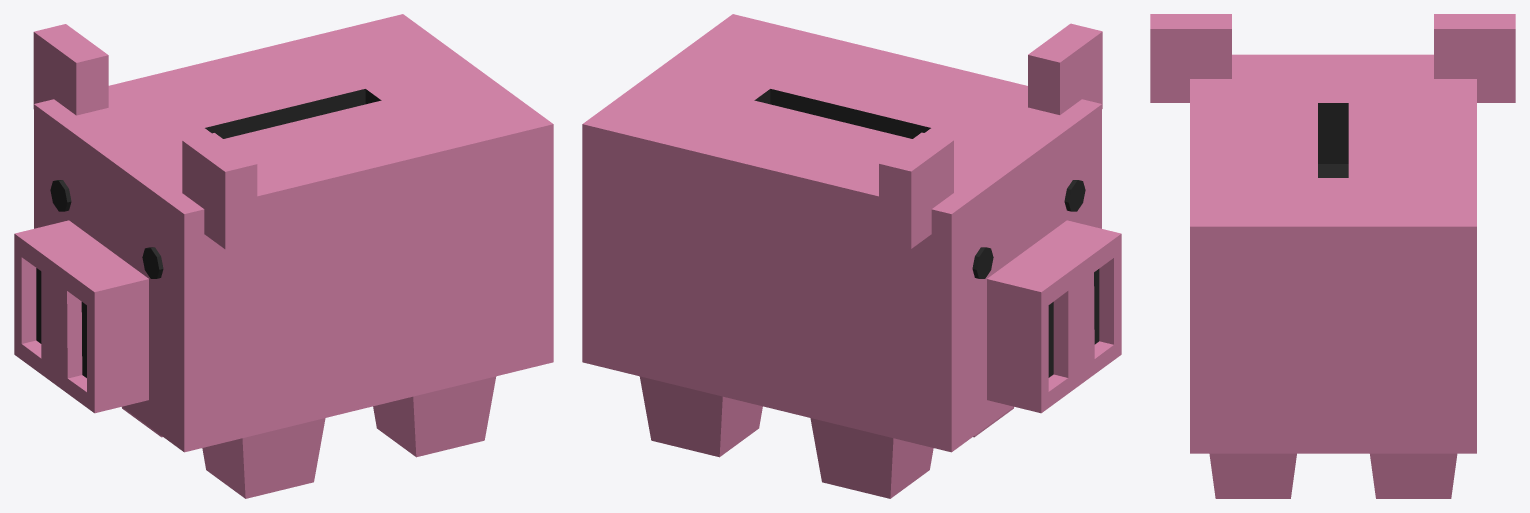
The model's file is pig_coin.fbx.
3 views of the same model, side by side, from view 1: azimuth 30°, elevation 25°; view 2: azimuth 150°, elevation 25°; view 3: azimuth 270°, elevation 25° (orthographic). The views are drawn at different scales.
Parts seen in each view (by area): view 1: pig, hana; view 2: pig, hana; view 3: pig.
Boxes of the visible parts, x1,y1,x2,y2 form: pig: (33,14,553,498); hana: (14,220,148,413); pig: (582,14,1102,498); hana: (987,220,1121,413); pig: (1150,14,1515,498).
Bounding box in the file's own units: 372 × 307 × 292.
